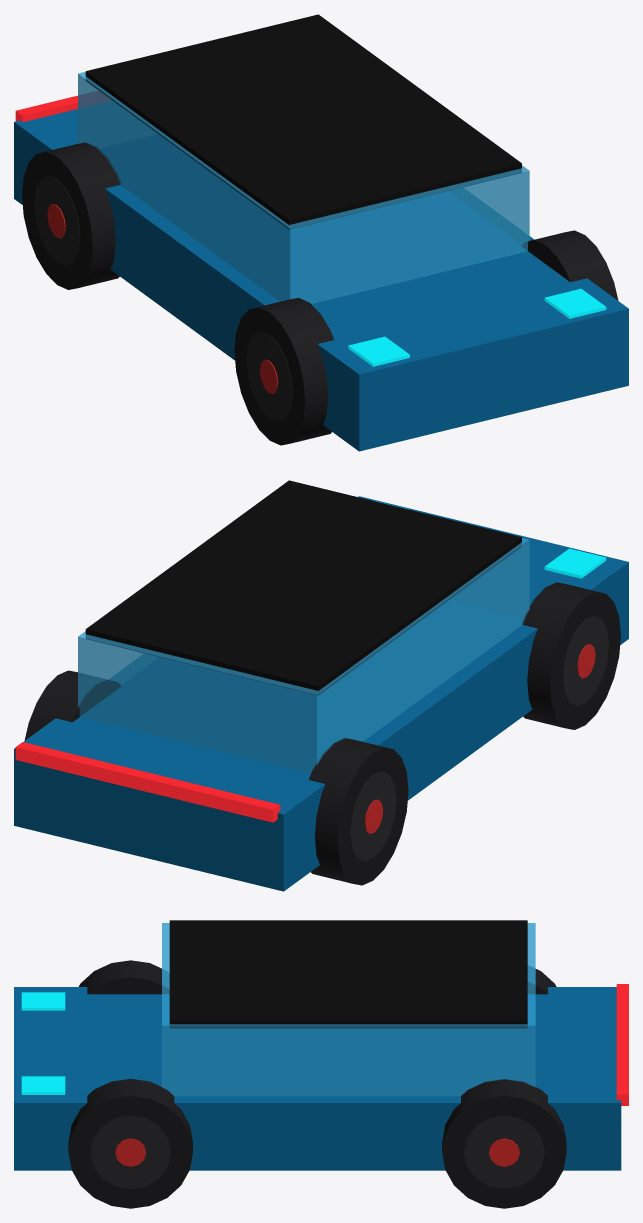
The model's file is zeekr_001.glb.
The picture shows the model from 3 angles, top to bottom: view 1: azimuth 30°, elevation 25°; view 2: azimuth 150°, elevation 25°; view 3: azimuth 270°, elevation 25°; orthographic projection. The views are drawn at different scales.
Bounding box in the file's own units: 0.5255 × 0.3063 × 1.
